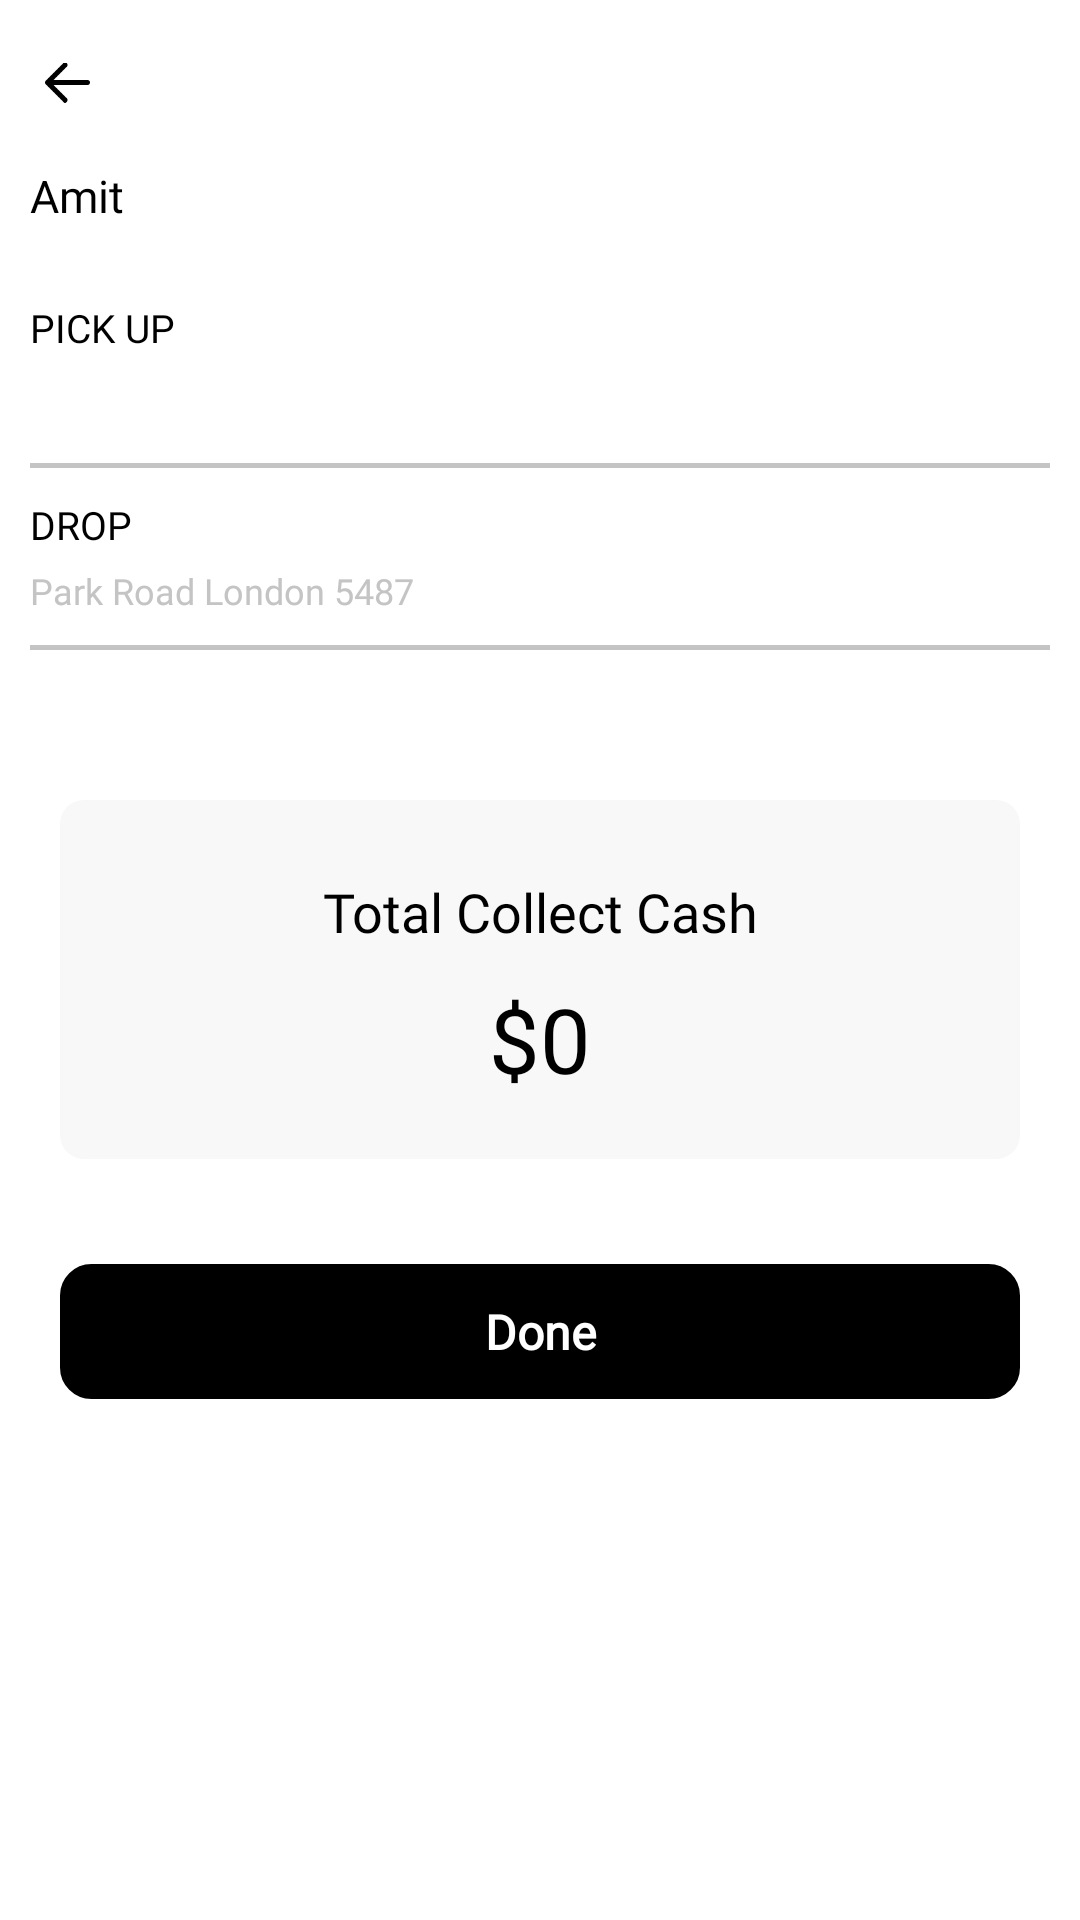

Locate icon controls on the screen. Image size 1080×1920, boxes as (x1, y1, x2, y2).
back: (45, 63, 90, 103)
